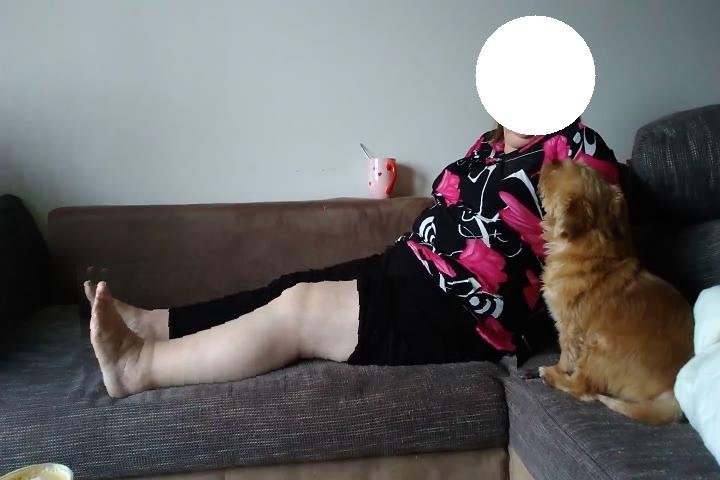lowerbody: (79, 246, 516, 400)
